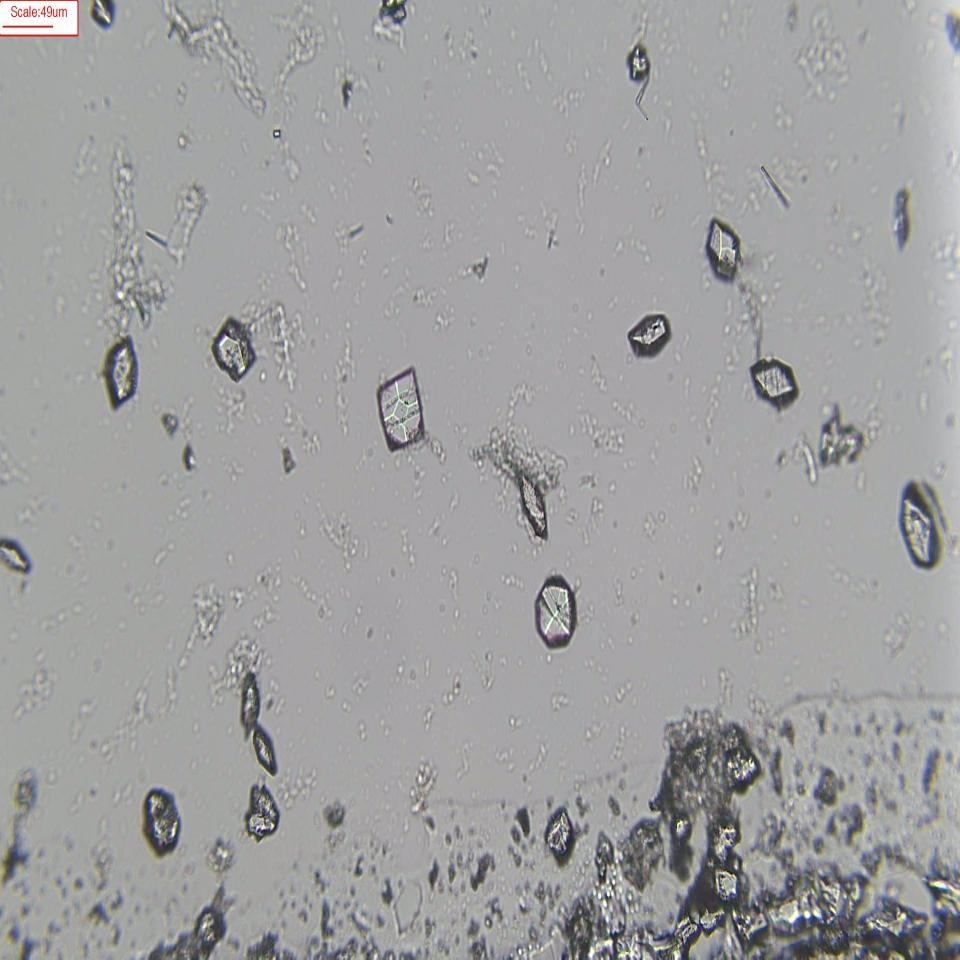crystal: (528, 570, 584, 660), (372, 366, 431, 443), (900, 485, 944, 575), (208, 318, 262, 388), (101, 336, 149, 413), (705, 212, 746, 288), (139, 784, 184, 853), (749, 356, 810, 406), (625, 313, 679, 357), (519, 467, 551, 538), (254, 717, 285, 786), (0, 528, 35, 580), (246, 784, 278, 840), (544, 807, 575, 863), (238, 668, 258, 734), (627, 43, 653, 85)
not_crystal: (706, 812, 757, 928)
